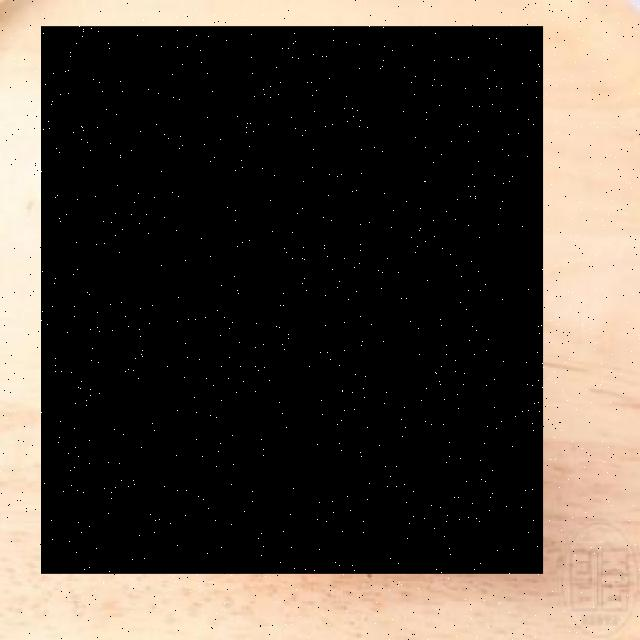Sweet_Potato: (41, 28, 545, 576)
